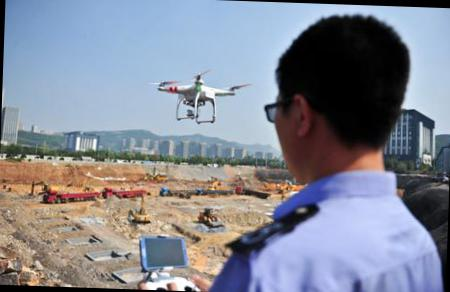drone: (154, 66, 241, 126)
